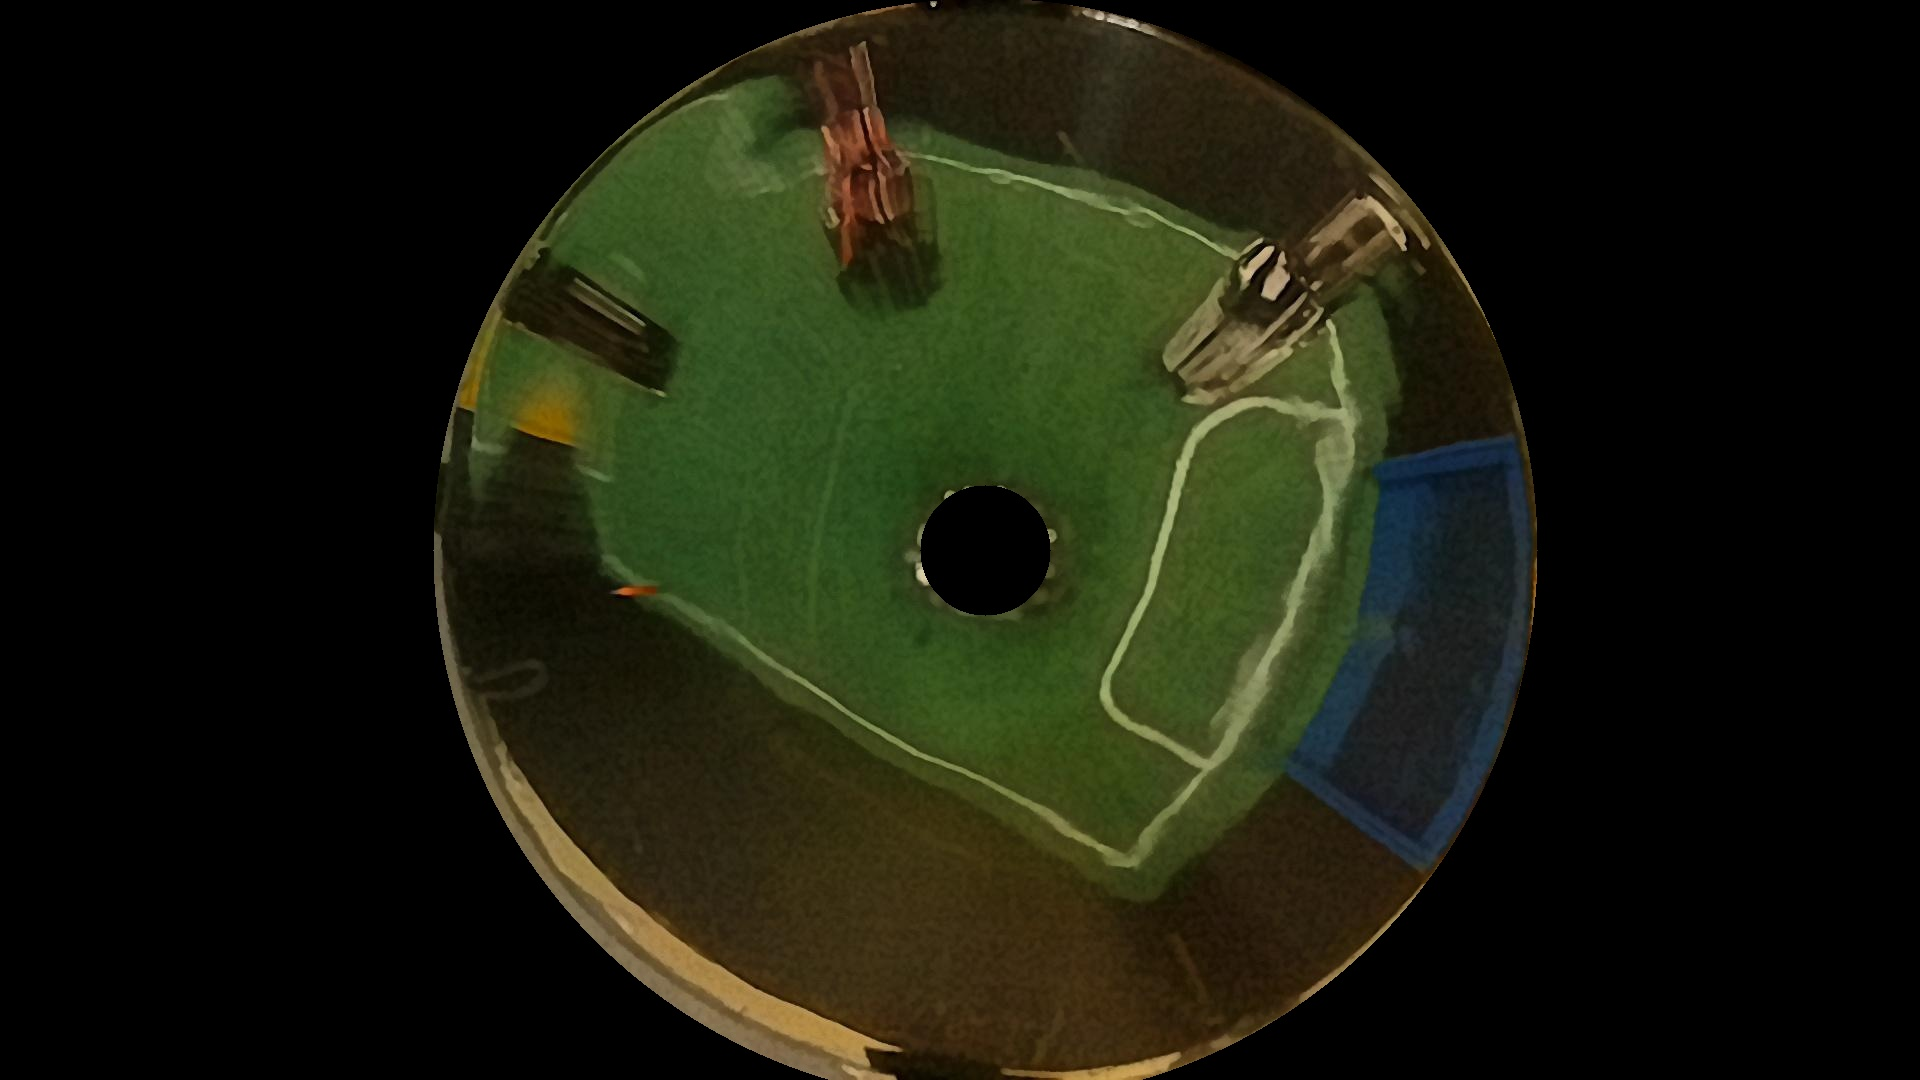ball: (613, 583, 658, 600)
blue-goal: (1295, 435, 1540, 862)
robots: (1171, 182, 1395, 404), (798, 61, 934, 293), (510, 252, 683, 389)
yellow-goal: (471, 318, 585, 452)
